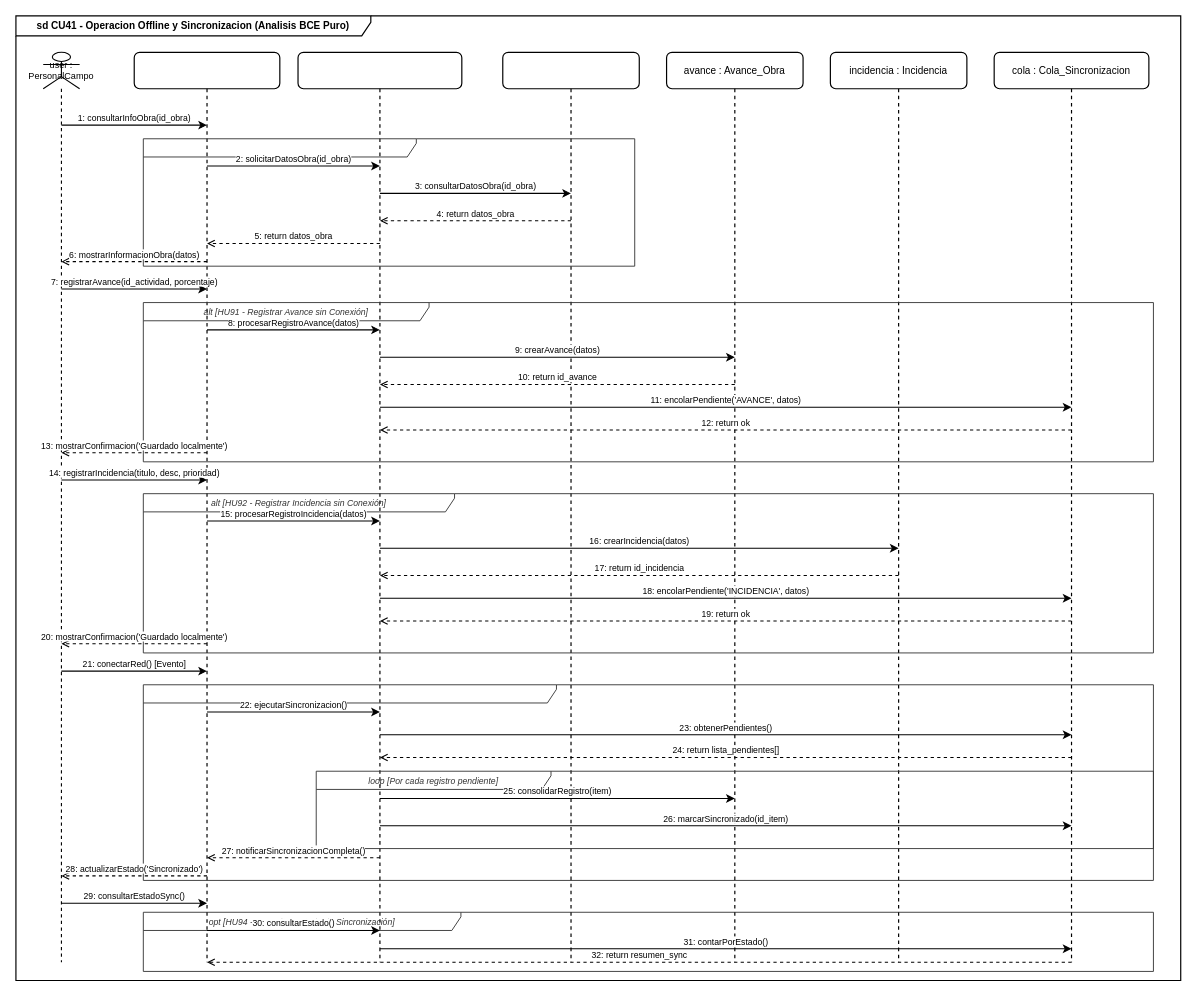
Some shapes in this 1198 by 997 pixel diagram are drawn without their labels. The shapes that lost their labels are listed below. From the top down, each one's box as (x1, y1, x2, y2) in pixels, then its label:
(142, 138, 635, 266): alt [HU90 - Consultar Obra sin Conexión]
(133, 51, 280, 963): ui : IU_operacion_offline
(297, 51, 462, 963): control : Control_Operacion_Offline
(502, 51, 639, 963): obra : Obra
(142, 684, 1153, 880): opt [HU93 - Conexión Restablecida y Sincronización Automática]
